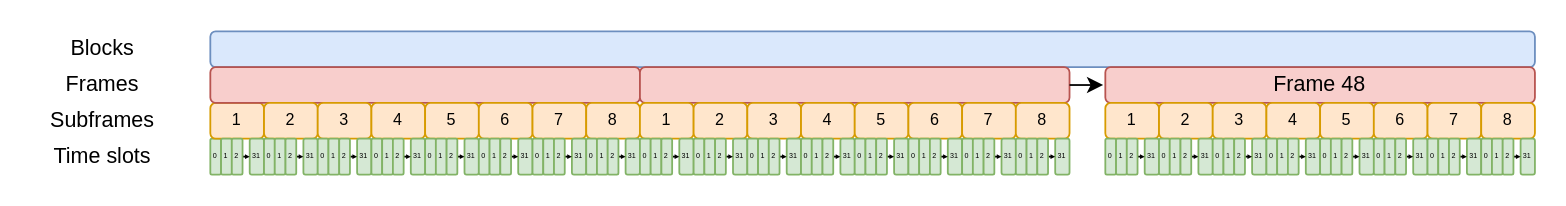
Some shapes in this 1566 by 206 pixel diagram are drawn without their labels. The box of each missing label's shape, as (x1, y1, x2, y2) in pixels:
Audio block: (209, 30, 1535, 67)
Frame 1: (209, 65, 640, 103)
Frame 2: (638, 65, 1070, 103)
